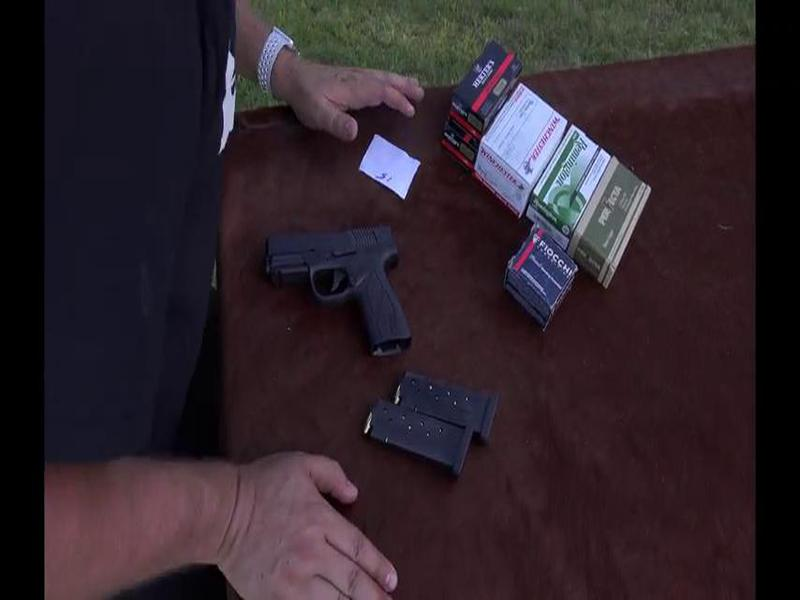Pistola: (255, 214, 435, 355)
